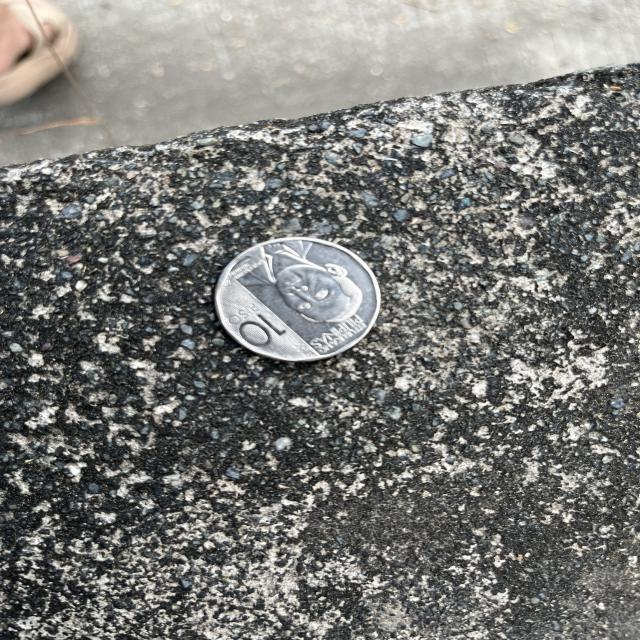10_New_Front: (230, 303, 290, 351)
